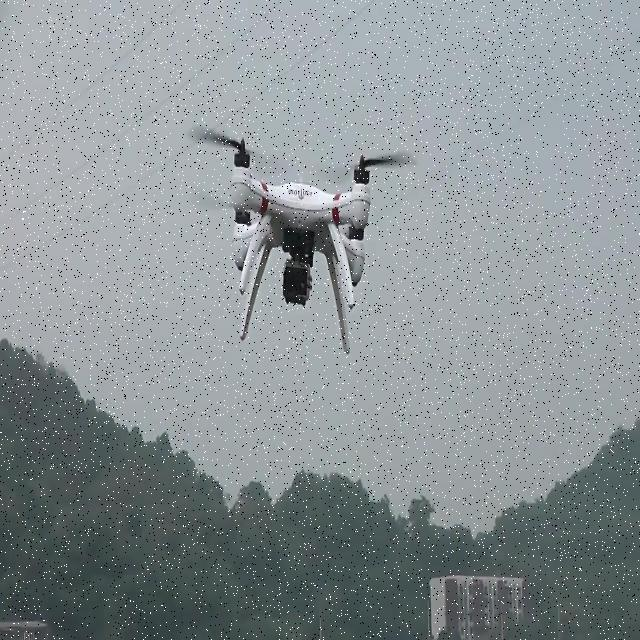UAV: (210, 129, 389, 355)
